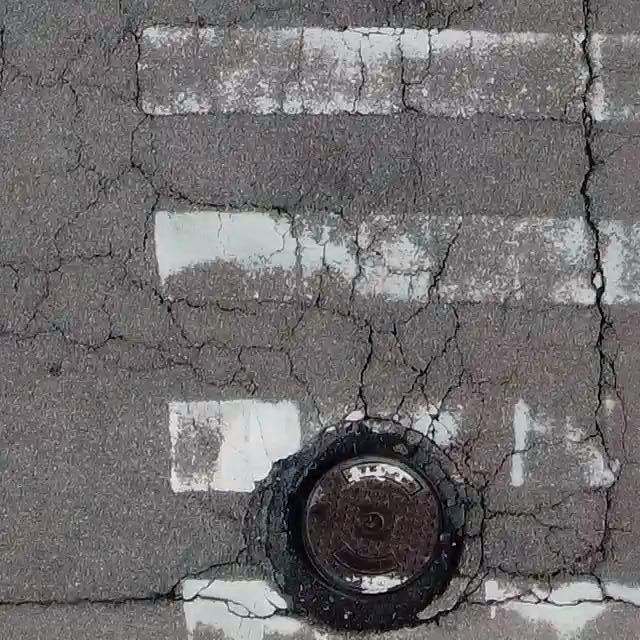GRIETA: (171, 546, 248, 591), (0, 590, 181, 606), (184, 593, 277, 619)
PIEL DE COCODRILO: (1, 0, 639, 630)
